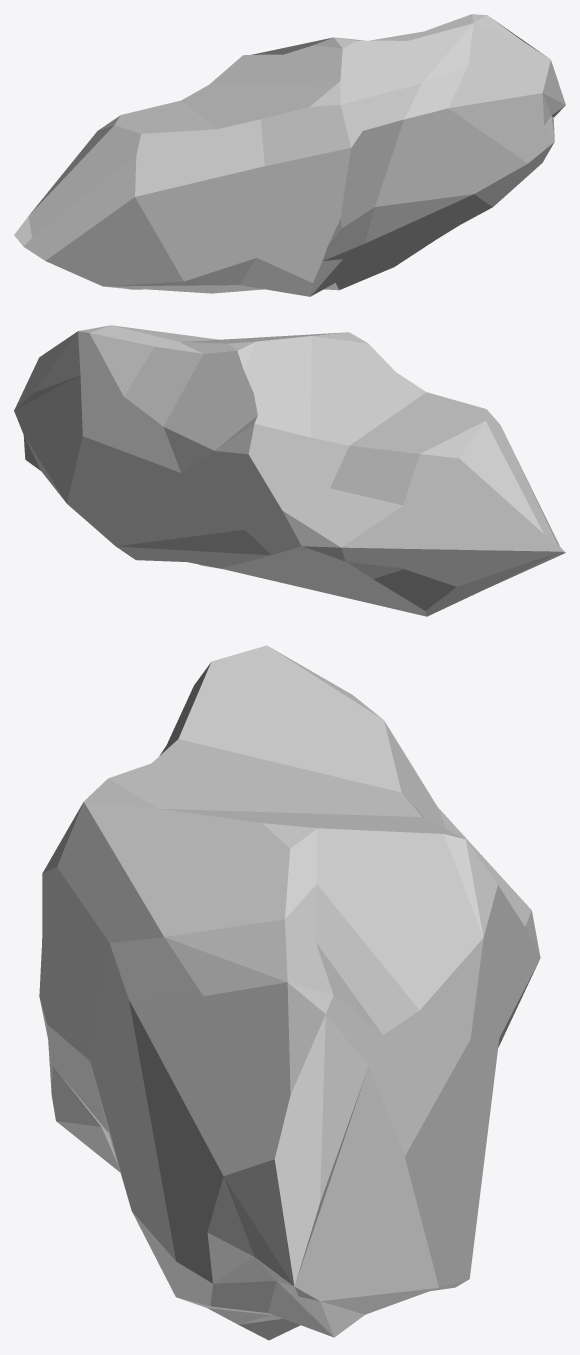
Rendered from Wh_Rock_Big_02.fbx.
3 views of the same model, one above another, from view 1: azimuth 30°, elevation 25°; view 2: azimuth 150°, elevation 25°; view 3: azimuth 270°, elevation 25° (orthographic). The views are drawn at different scales.
Parts seen in each view (by area): view 1: LowPolyRock.017; view 2: LowPolyRock.017; view 3: LowPolyRock.017.
Part boxes in pixels (<box>): LowPolyRock.017: <box>14,14,565,296</box>; LowPolyRock.017: <box>14,325,565,616</box>; LowPolyRock.017: <box>39,645,540,1340</box>.
Size of the model in its own units: 2930 by 1205 by 1165.
